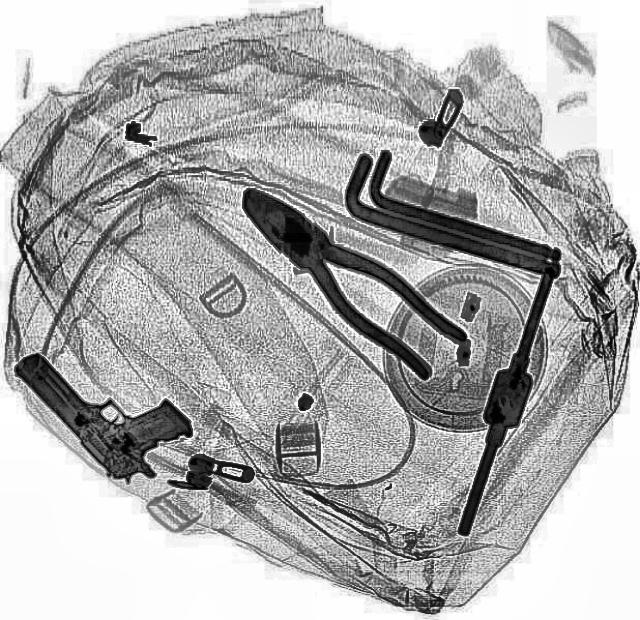Gun: (5, 310, 205, 496)
Pliers: (220, 164, 470, 382)
